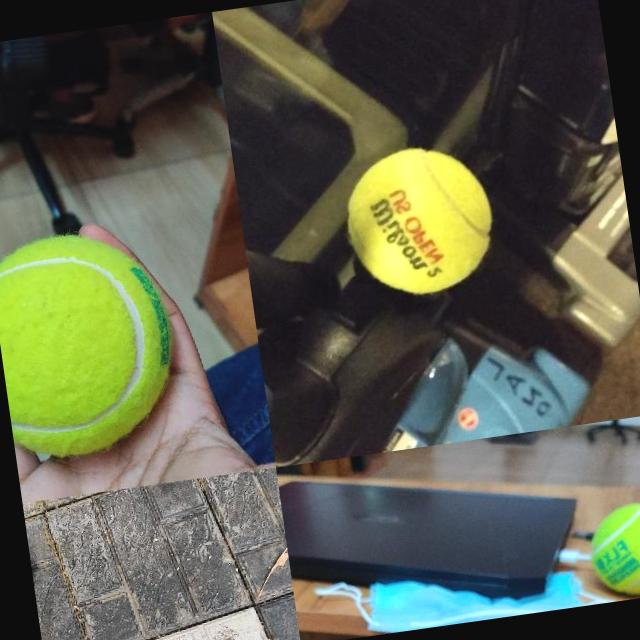Tennis Ball: (0, 221, 187, 464), (337, 137, 503, 306), (585, 498, 640, 599)
